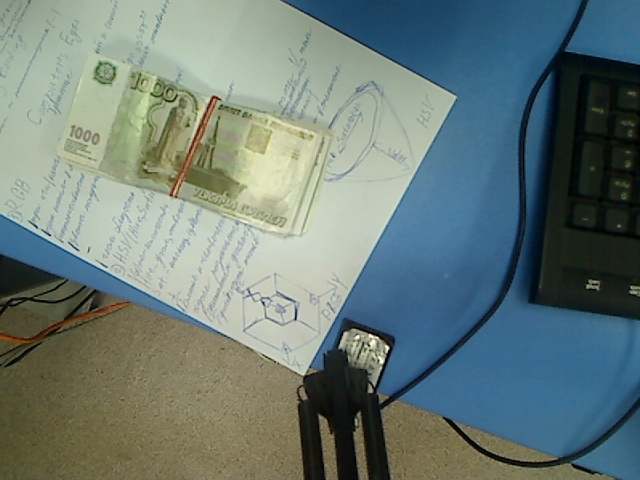banknotes: (52, 49, 337, 245)
